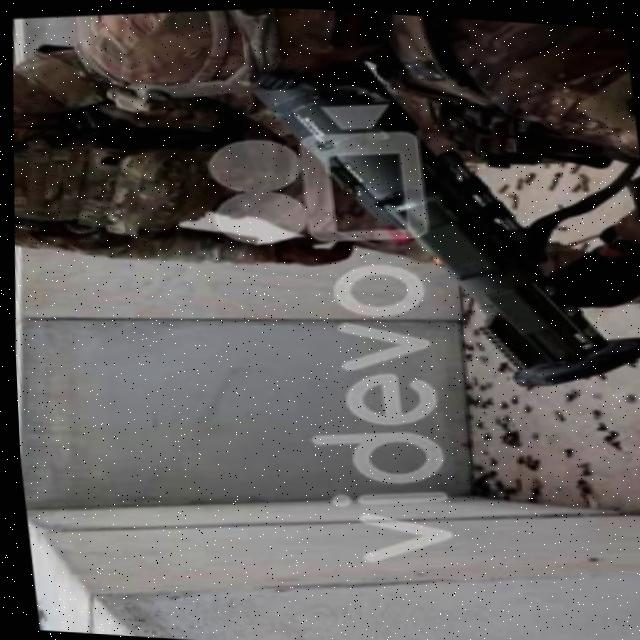rocket: (253, 62, 640, 413)
